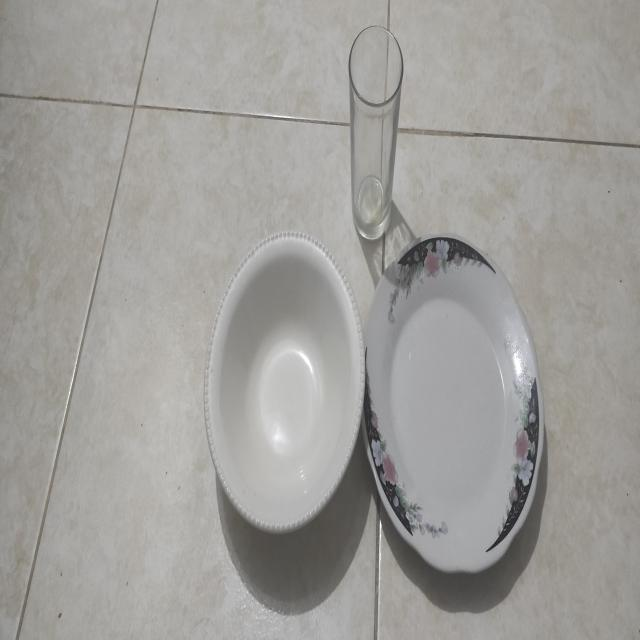ceramic plate: (363, 226, 551, 592), (196, 214, 370, 544)
